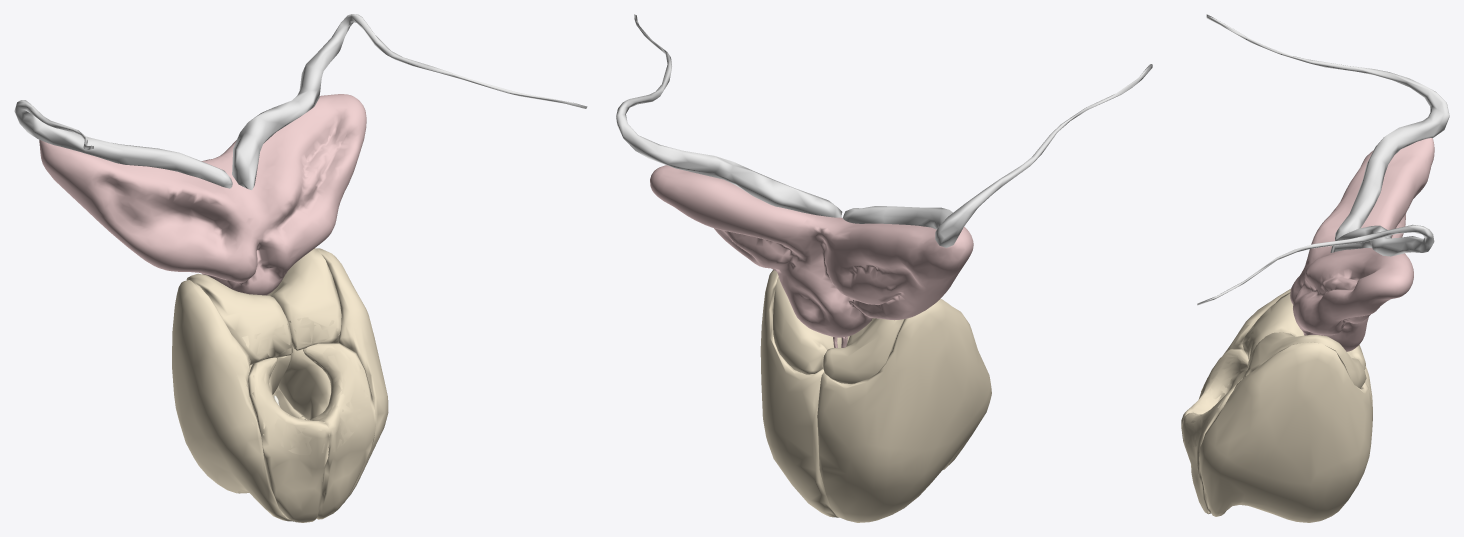
File: vh_m_prostate-40.fbx
The picture shows the model from 3 angles, left to right: view 1: azimuth 30°, elevation 25°; view 2: azimuth 150°, elevation 25°; view 3: azimuth 270°, elevation 25°; orthographic projection. The views are drawn at different scales.
Parts seen in each view (by area): view 1: VH_M_seminal_vesicle, VH_M_peripheral_zone_of_prostate_R, VH_M_anterior_fibromuscular_stroma_R, VH_M_anterior_fibromuscular_stroma_L, VH_M_vas_deferens_R, VH_M_vas_deferens_L, VH_M_base_of_prostate, VH_M_central_zone_of_prostate_L, VH_M_peripheral_zone_of_prostate_L, VH_M_central_zone_of_prostate_R, VH_M_transition_zone__of_prostate_L; view 2: VH_M_peripheral_zone_of_prostate_R, VH_M_seminal_vesicle, VH_M_peripheral_zone_of_prostate_L, VH_M_vas_deferens_R, VH_M_vas_deferens_L, VH_M_central_zone_of_prostate_R, VH_M_central_zone_of_prostate_L; view 3: VH_M_peripheral_zone_of_prostate_L, VH_M_seminal_vesicle, VH_M_vas_deferens_L, VH_M_vas_deferens_R, VH_M_central_zone_of_prostate_L, VH_M_central_zone_of_prostate_R, VH_M_anterior_fibromuscular_stroma_L, VH_M_base_of_prostate, VH_M_anterior_fibromuscular_stroma_R, VH_M_peripheral_zone_of_prostate_R.
Boxes of the visible parts, x1,y1,x2,y2 form: VH_M_seminal_vesicle: [39, 94, 366, 295]; VH_M_peripheral_zone_of_prostate_R: [172, 280, 293, 521]; VH_M_anterior_fibromuscular_stroma_R: [248, 357, 329, 522]; VH_M_anterior_fibromuscular_stroma_L: [303, 343, 375, 519]; VH_M_vas_deferens_R: [232, 14, 587, 189]; VH_M_vas_deferens_L: [14, 100, 232, 188]; VH_M_base_of_prostate: [235, 317, 368, 454]; VH_M_central_zone_of_prostate_L: [267, 248, 341, 351]; VH_M_peripheral_zone_of_prostate_L: [273, 248, 388, 498]; VH_M_central_zone_of_prostate_R: [186, 273, 292, 364]; VH_M_transition_zone__of_prostate_L: [278, 344, 330, 419]; VH_M_peripheral_zone_of_prostate_R: [817, 299, 991, 522]; VH_M_seminal_vesicle: [650, 165, 973, 337]; VH_M_peripheral_zone_of_prostate_L: [760, 270, 838, 517]; VH_M_vas_deferens_R: [616, 14, 842, 217]; VH_M_vas_deferens_L: [842, 64, 1152, 247]; VH_M_central_zone_of_prostate_R: [822, 318, 903, 383]; VH_M_central_zone_of_prostate_L: [773, 277, 849, 374]; VH_M_peripheral_zone_of_prostate_L: [1199, 342, 1372, 522]; VH_M_seminal_vesicle: [1290, 138, 1434, 351]; VH_M_vas_deferens_L: [1206, 14, 1449, 240]; VH_M_vas_deferens_R: [1197, 224, 1434, 305]; VH_M_central_zone_of_prostate_L: [1243, 332, 1366, 388]; VH_M_central_zone_of_prostate_R: [1242, 292, 1365, 369]; VH_M_anterior_fibromuscular_stroma_L: [1182, 379, 1242, 514]; VH_M_base_of_prostate: [1184, 325, 1256, 446]; VH_M_anterior_fibromuscular_stroma_R: [1181, 349, 1248, 442]; VH_M_peripheral_zone_of_prostate_R: [1201, 289, 1372, 408].
Size of the model in its own units: 8.3 by 7.06 by 4.28.
